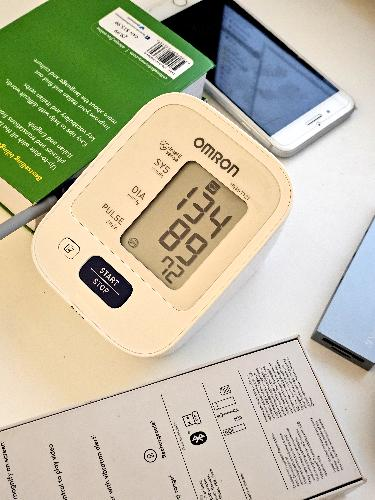bpm: (116, 153, 254, 294)
